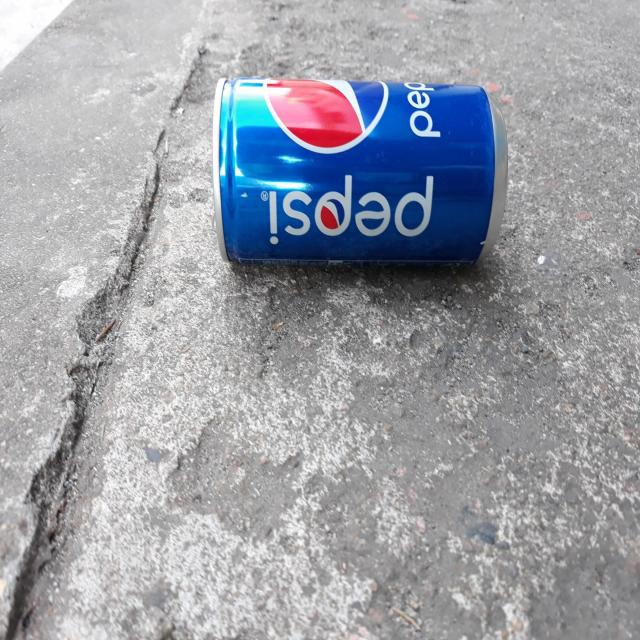can: (213, 77, 508, 264)
